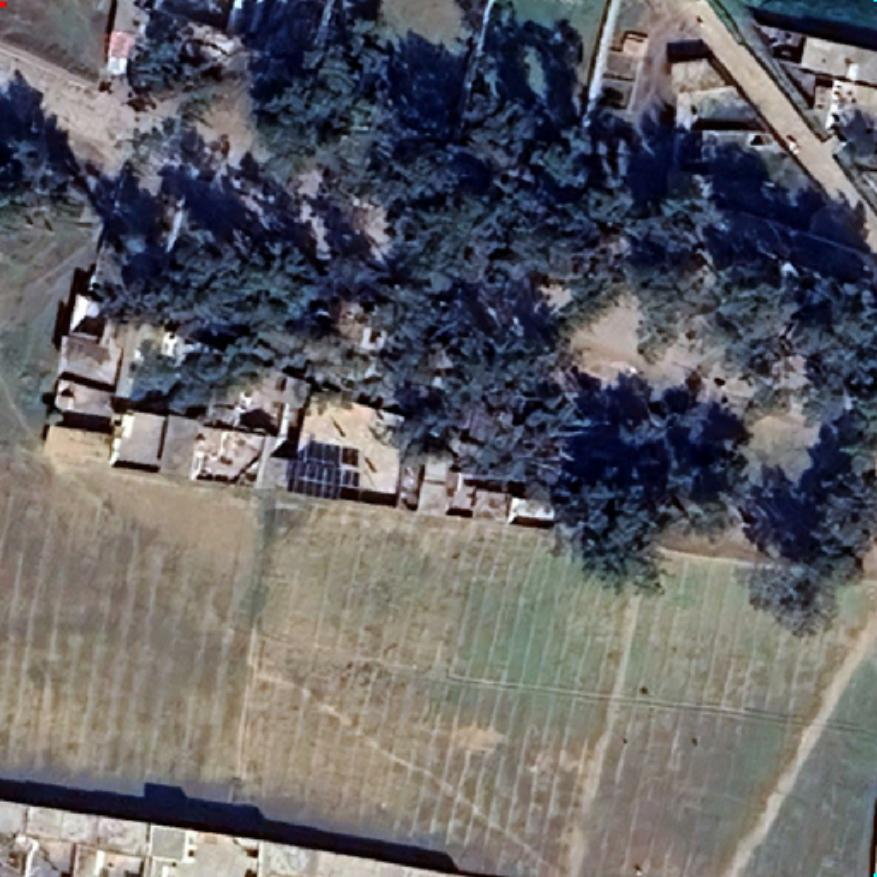Solarpanel: (291, 449, 365, 497)
